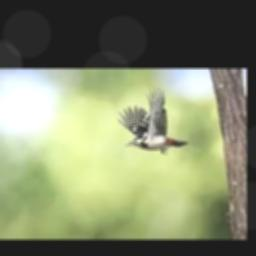Woodpecker: (116, 84, 187, 154)
